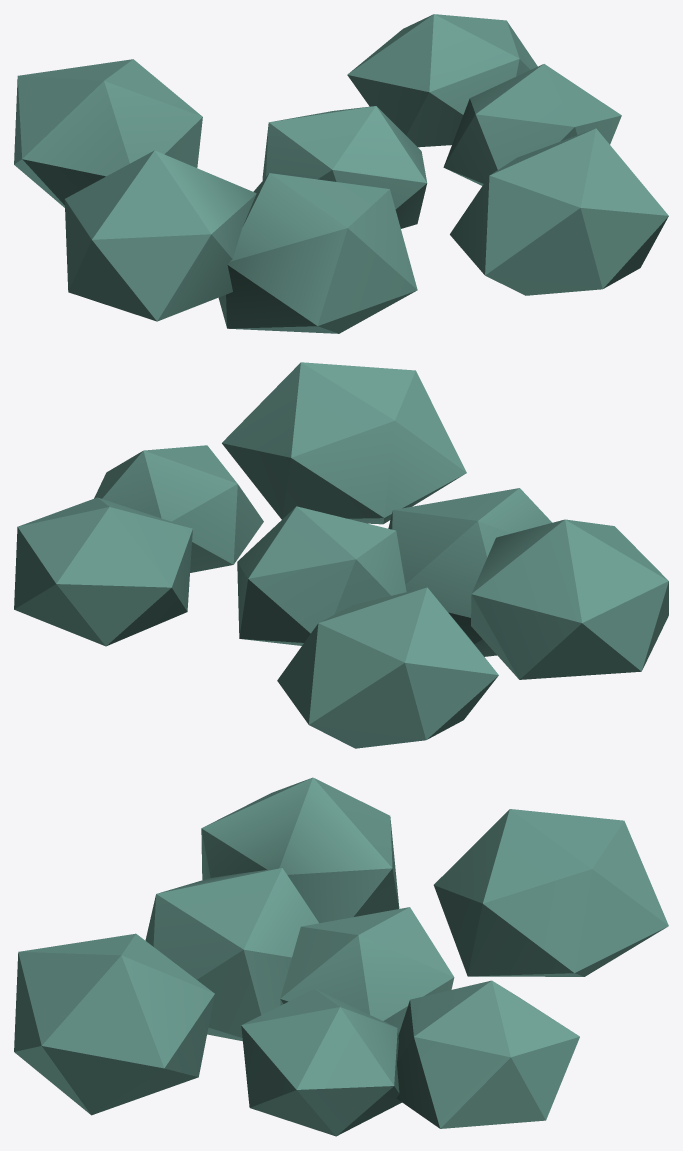
Rendered from forest_clump_broad.glb.
3 views of the same model, one above another, from view 1: azimuth 30°, elevation 25°; view 2: azimuth 150°, elevation 25°; view 3: azimuth 270°, elevation 25° (orthographic). The views are drawn at different scales.
Bounding box in the file's own units: 23.13 × 7.29 × 22.68.
